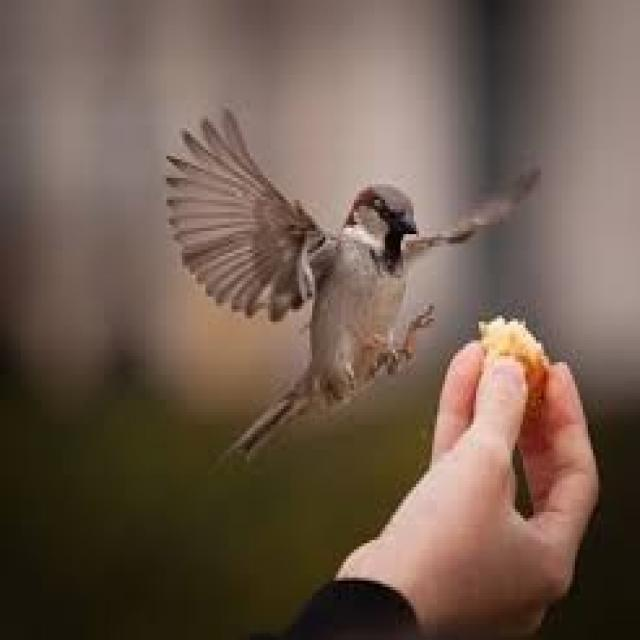brid: (252, 130, 476, 448)
